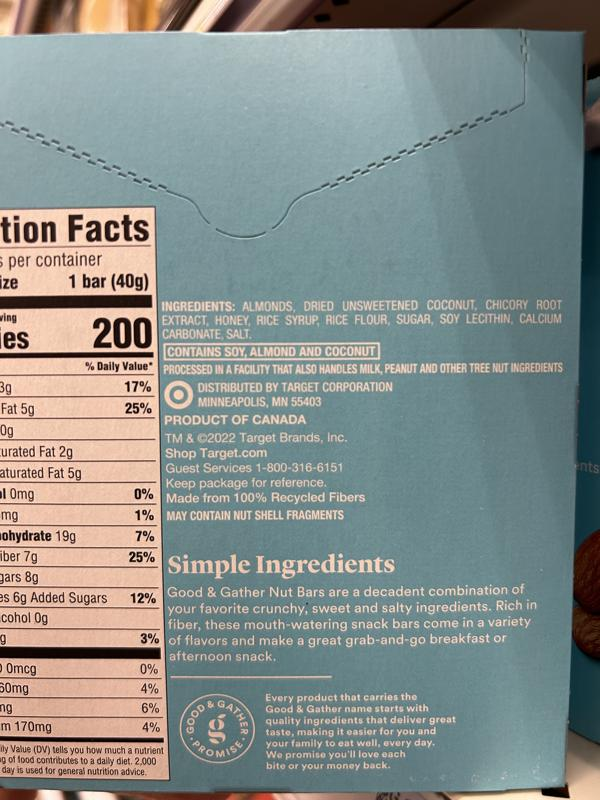ingredients: (159, 297, 567, 341)
